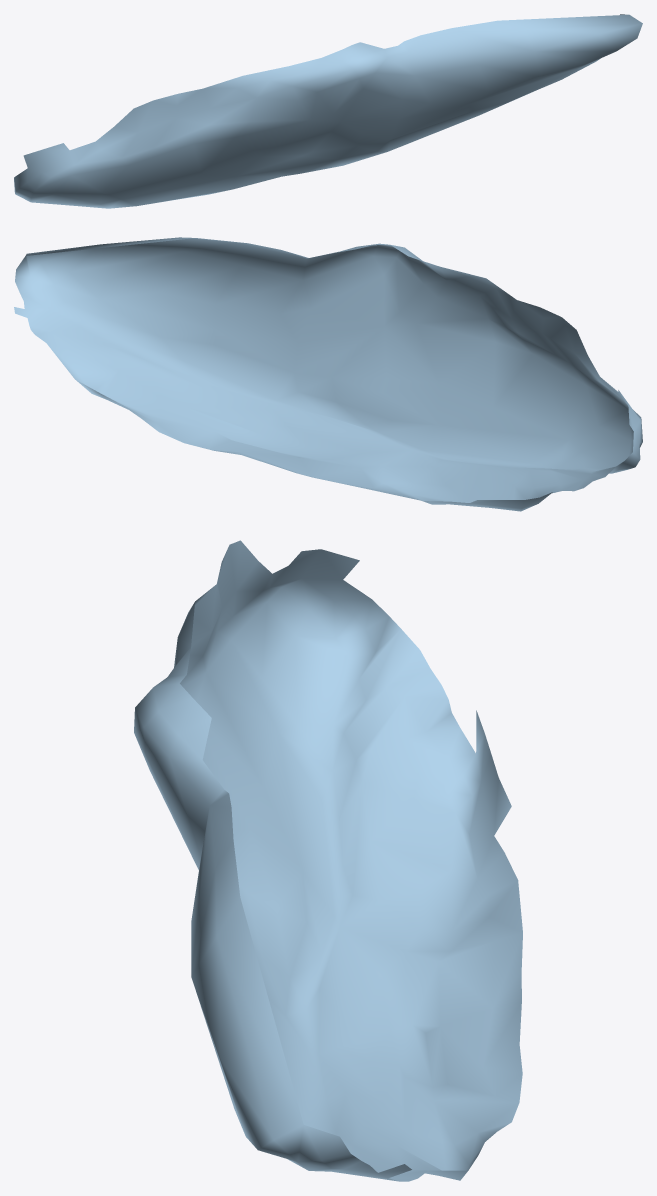
The model's file is RS-4Y_ice04TOP.fbx.
The picture shows the model from 3 angles, top to bottom: view 1: azimuth 30°, elevation 25°; view 2: azimuth 150°, elevation 25°; view 3: azimuth 270°, elevation 25°; orthographic projection. The views are drawn at different scales.
Parts seen in each view (by area): view 1: RS-4Y_ice04TOP.001; view 2: RS-4Y_ice04TOP.001; view 3: RS-4Y_ice04TOP.001.
Boxes of the visible parts, x1,y1,x2,y2 form: RS-4Y_ice04TOP.001: [14, 14, 642, 208]; RS-4Y_ice04TOP.001: [14, 237, 642, 511]; RS-4Y_ice04TOP.001: [134, 540, 522, 1181].
Size of the model in its own units: 3435 by 906 by 954.
